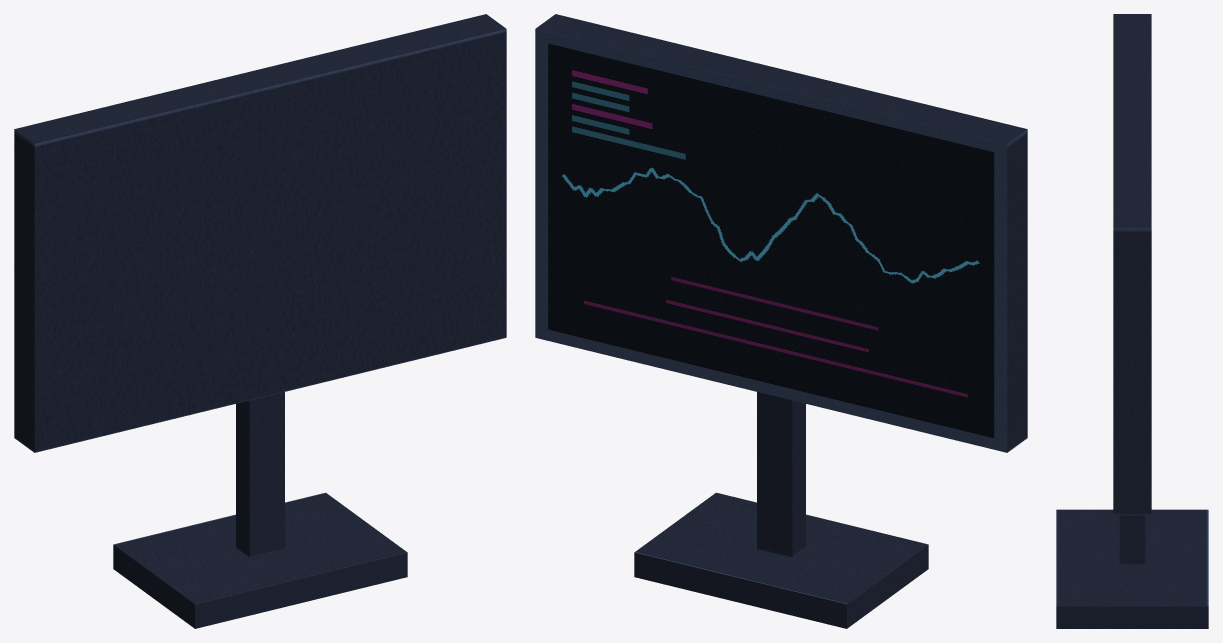
Rendered from monitor.obj.
3 renders of one model, left to right at view 1: azimuth 30°, elevation 25°; view 2: azimuth 150°, elevation 25°; view 3: azimuth 270°, elevation 25°, orthographic. The views are drawn at different scales.
Parts seen in each view (by area): view 1: monitor; view 2: monitor; view 3: monitor.
Part boxes in pixels (x1,y1,x2,y2): monitor: (14, 14, 506, 628); monitor: (535, 14, 1027, 628); monitor: (1056, 14, 1208, 628).
Bounding box in the file's own units: 4 × 4 × 1.2.
1 material, 1 textured.
